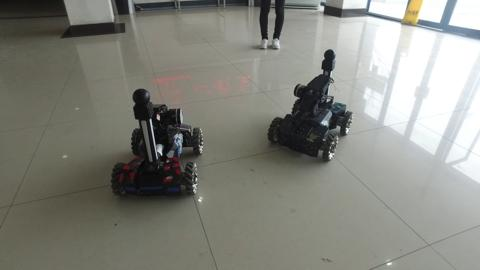chariot: (109, 84, 210, 202), (265, 49, 356, 169)
